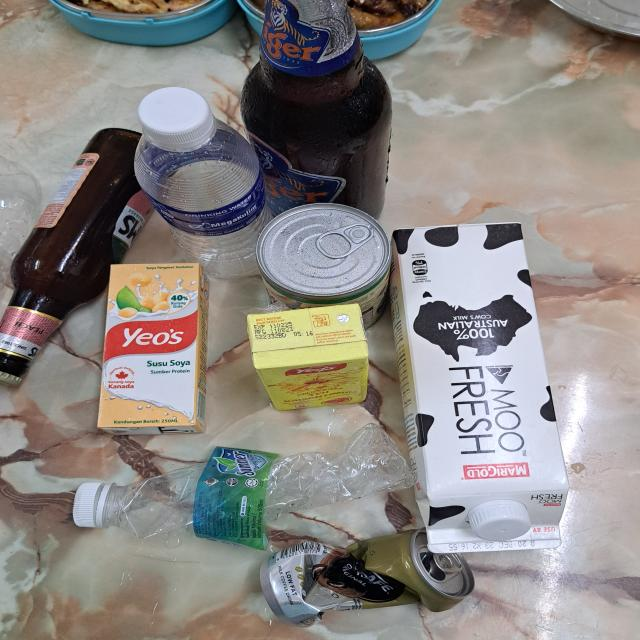can: (258, 526, 477, 626), (254, 202, 391, 328)
drink carton: (388, 221, 570, 554), (96, 263, 210, 435), (246, 302, 370, 410)
glass bottle: (0, 127, 169, 388), (239, 0, 390, 223)
plastic bottle: (106, 421, 418, 552), (134, 120, 273, 278)
plastic bottle cap: (138, 86, 215, 144), (469, 501, 532, 540), (72, 482, 105, 528)
pop tab: (316, 222, 375, 259), (432, 552, 466, 572)
